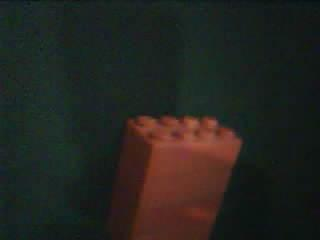lego: (100, 115, 244, 237)
